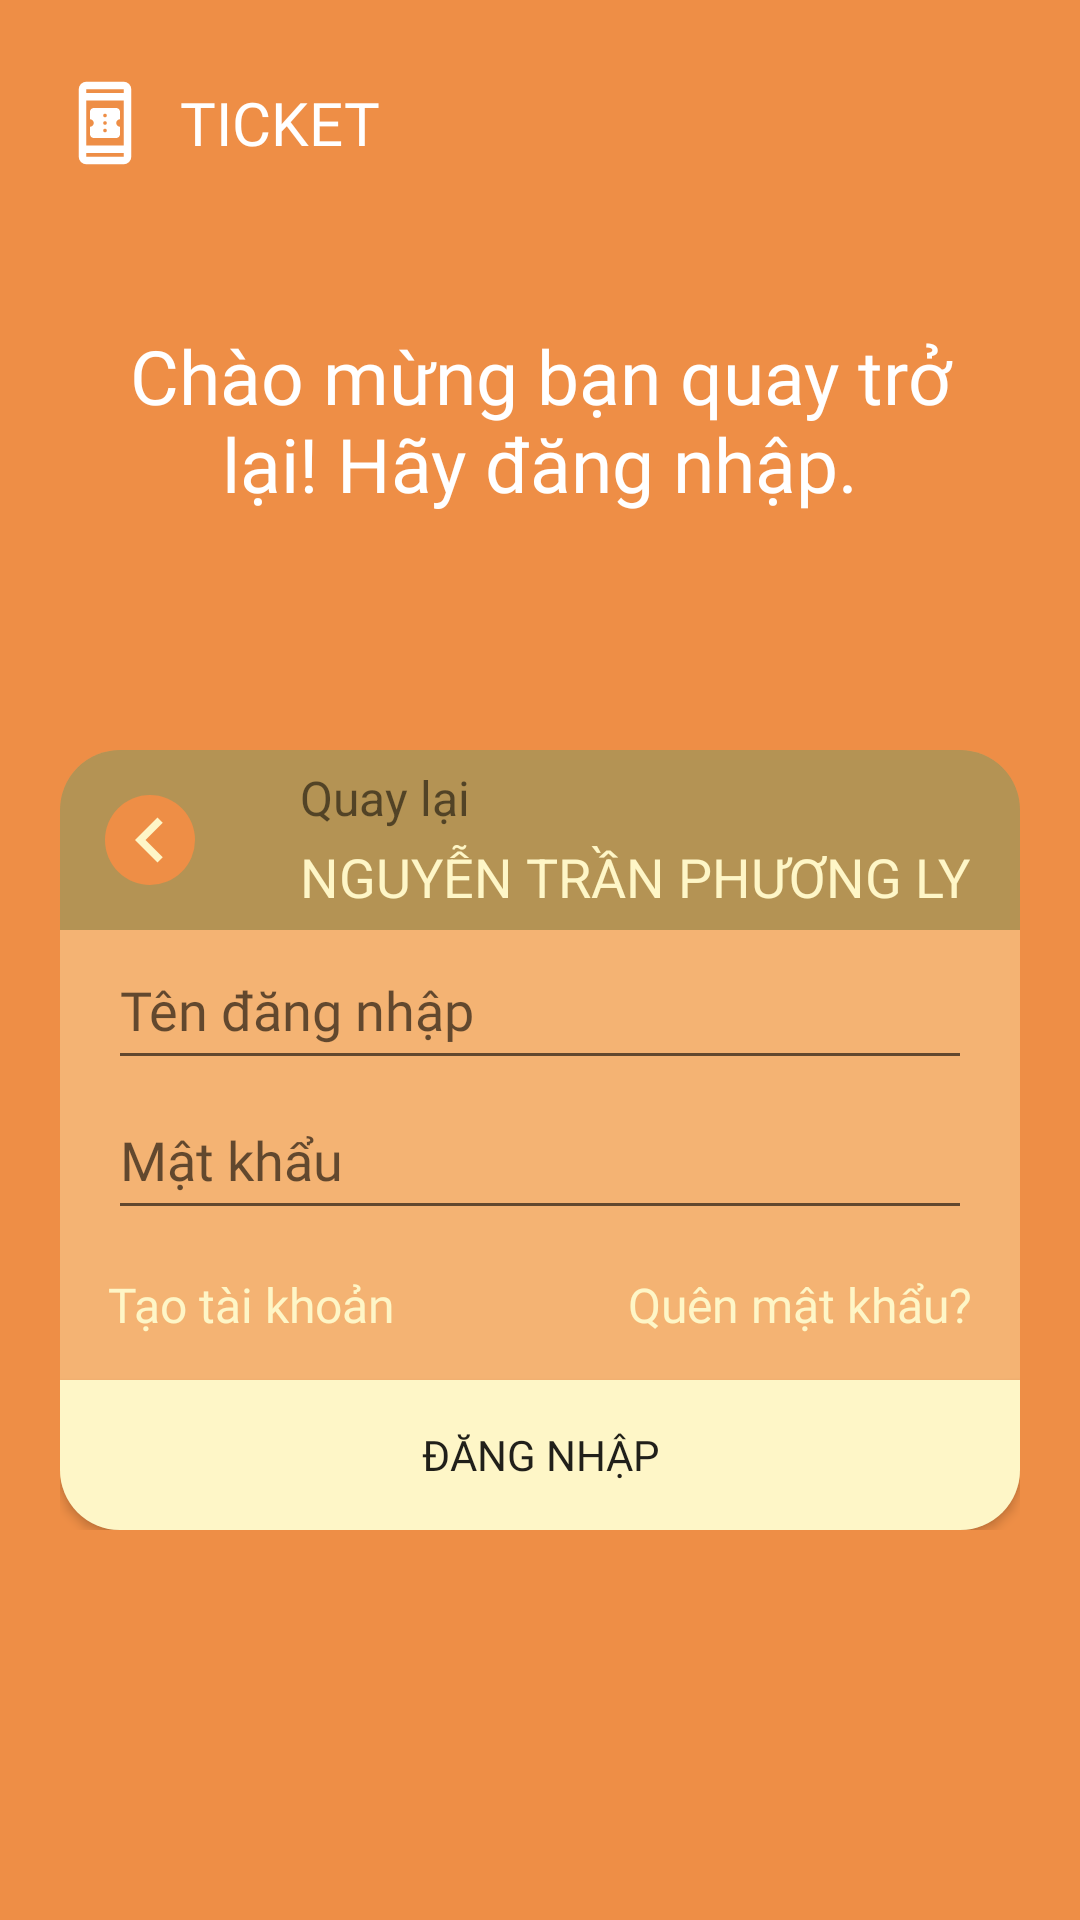

Where to tap for icons on this 1080px x 1920px app screen, as (x=x, y=y):
book online: (x=105, y=123)
chevron left: (x=150, y=840)
